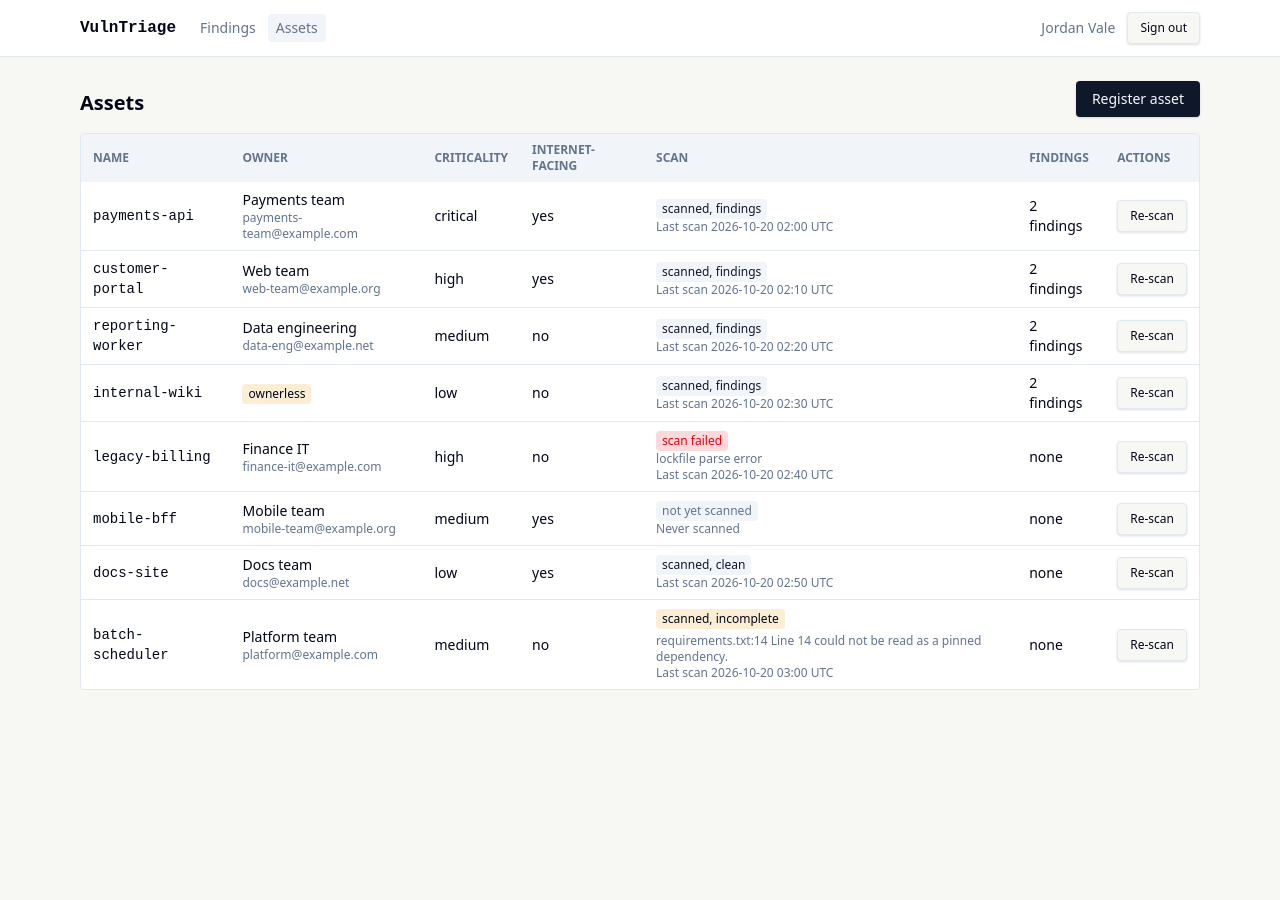
contract-shaped screens › offers a per-row re-scan, confirms it and leaves the scan status as it was
Click the button with aria-label "Re-scan payments-api". click: (1152, 216)
box: [1117, 200, 1187, 232]
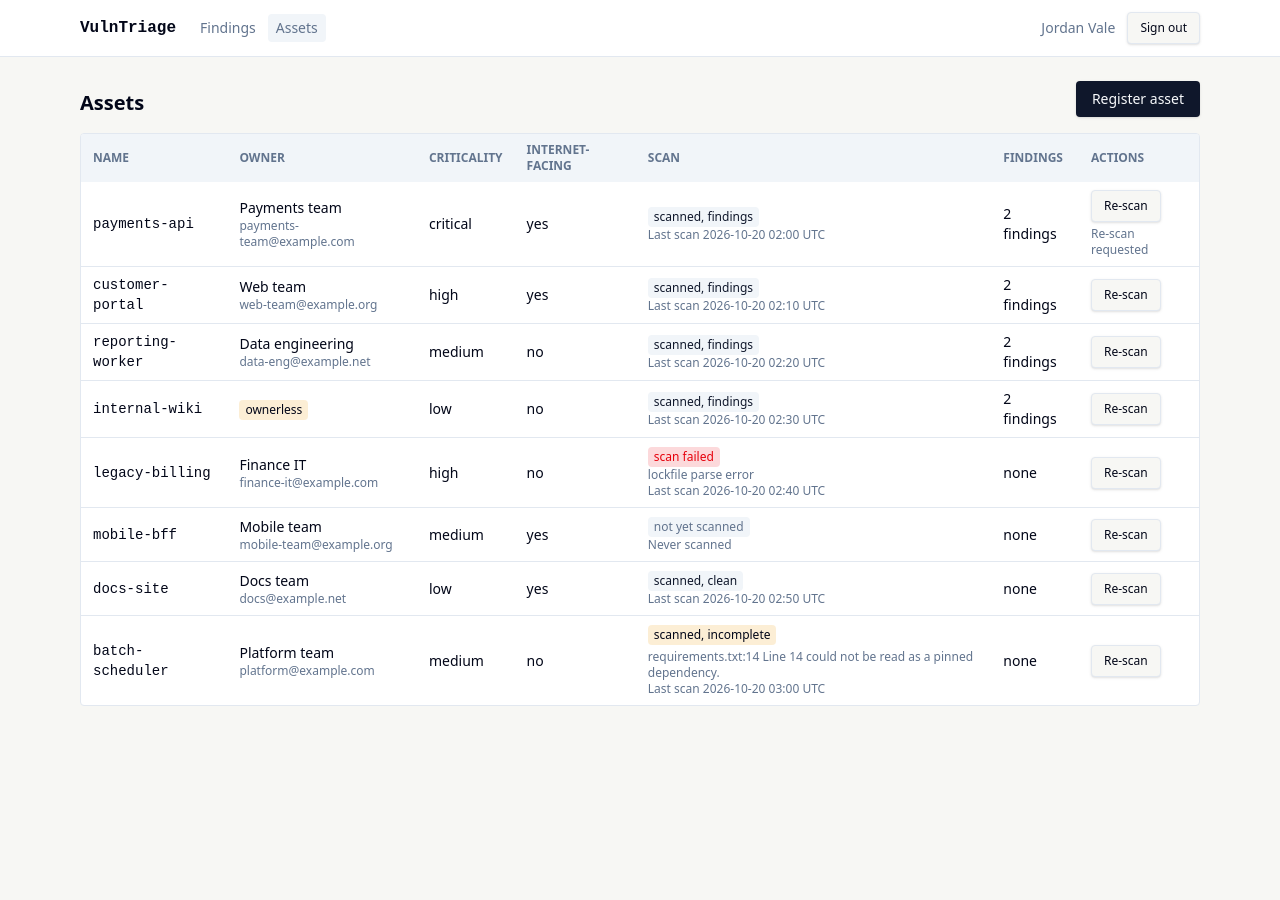
Expected: the text "scanned, findings" in the row of "payments-api" is shown, [654, 208, 753, 224]
Now the text "Re-scan requested" is shown, box [1091, 225, 1148, 258]
